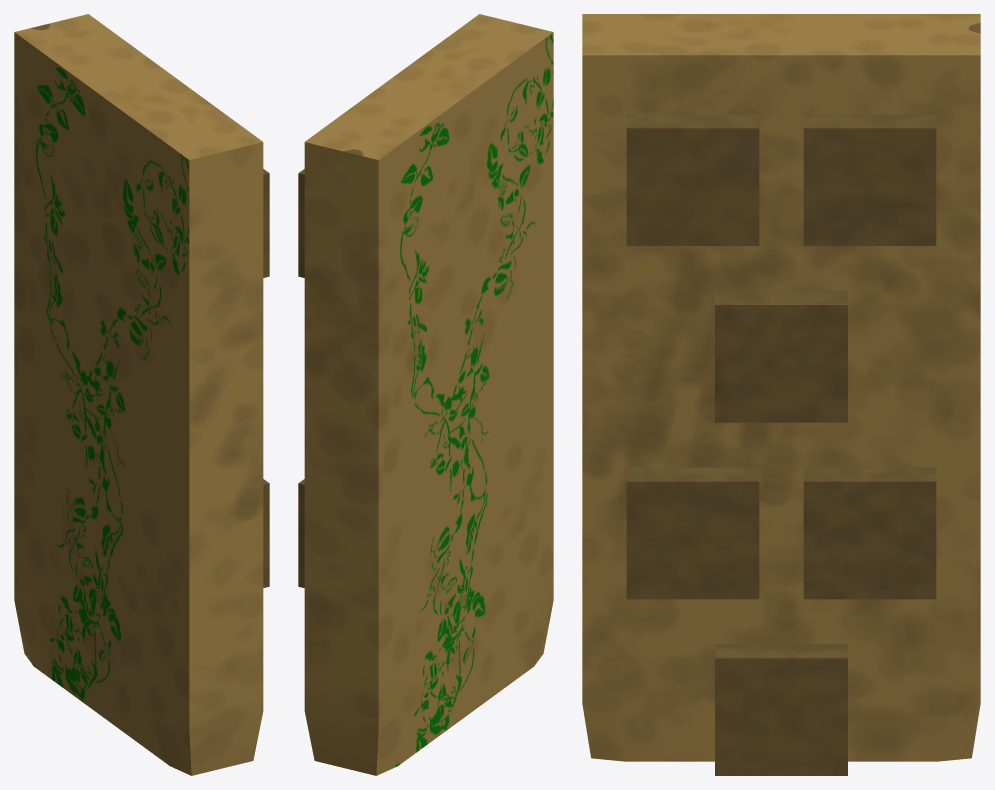
Rendered from wall bottom.fbx.
3 views of the same model, side by side, from view 1: azimuth 30°, elevation 25°; view 2: azimuth 150°, elevation 25°; view 3: azimuth 270°, elevation 25° (orthographic). The views are drawn at different scales.
Parts seen in each view (by area): view 1: pCube1; view 2: pCube1; view 3: pCube1.
Boxes of the visible parts, x1=… form: pCube1: x1=14, y1=14, x2=269, y2=775; pCube1: x1=298, y1=14, x2=553, y2=775; pCube1: x1=582, y1=14, x2=980, y2=775.
Size of the model in its own units: 1.35 by 8 by 4.09.
Materials: 1 (1 with a texture image).
